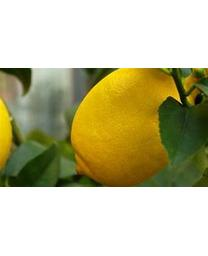lemon: (70, 68, 196, 186)
